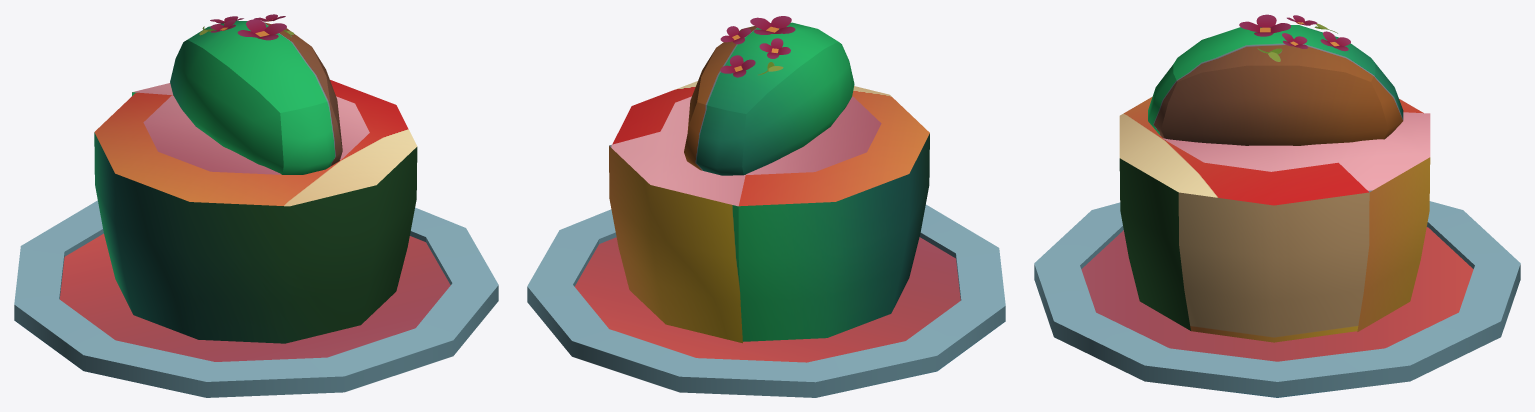
Rendered from cake_dish.fbx.
3 renders of one model, left to right at view 1: azimuth 30°, elevation 25°; view 2: azimuth 150°, elevation 25°; view 3: azimuth 270°, elevation 25°, orthographic.
Parts seen in each view (by area): view 1: Object001; view 2: Object001; view 3: Object001.
Part boxes in pixels (<box>): Object001: <box>14,14,498,397</box>; Object001: <box>527,16,1005,397</box>; Object001: <box>1034,14,1520,397</box>.
Bounding box in the file's own units: 32.45 × 20.07 × 32.78.
